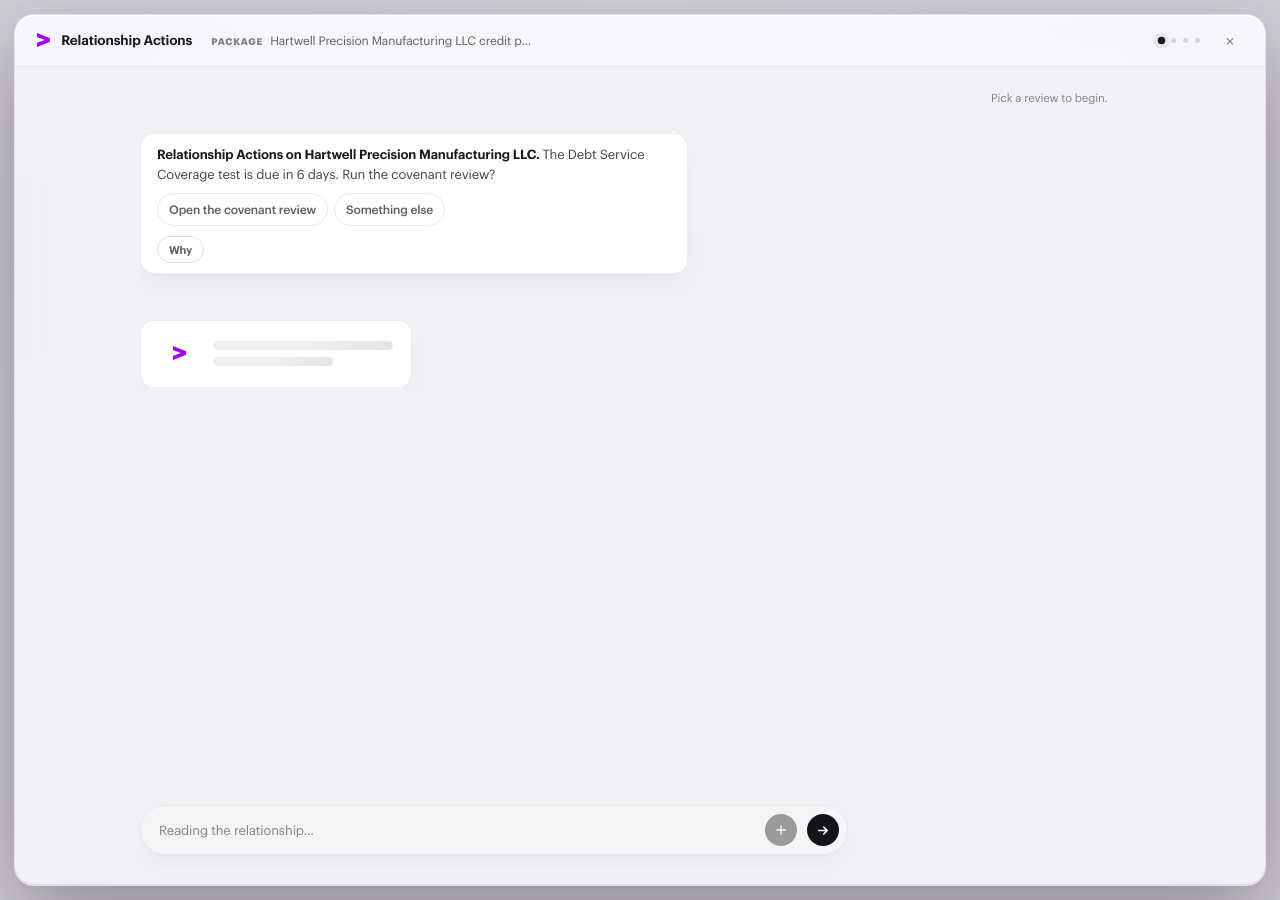
Test: the smart opening › falls through to the neutral five-way on 'Something else', binding nothing
The width and height of the screenshot is (1280, 900).
Click the button "Something else" at point(390, 210), box [334,193,445,226]
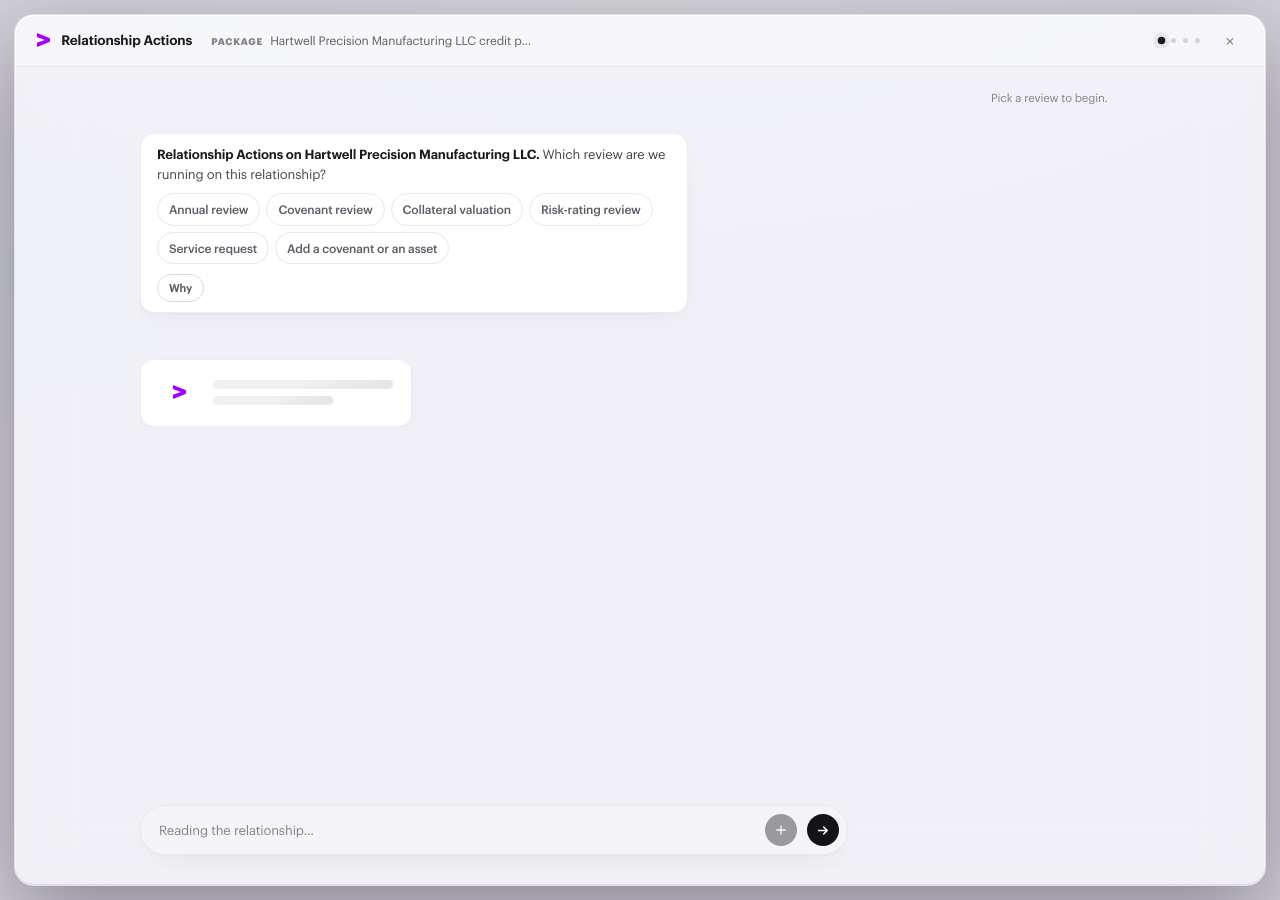
expect the text "Which review are we running on this relationship?" is shown: met, box [157,144,670,184]
expect the button "Annual review" is shown: met, box [157,193,260,226]
expect the button "Collateral valuation" is shown: met, box [390,193,523,226]
